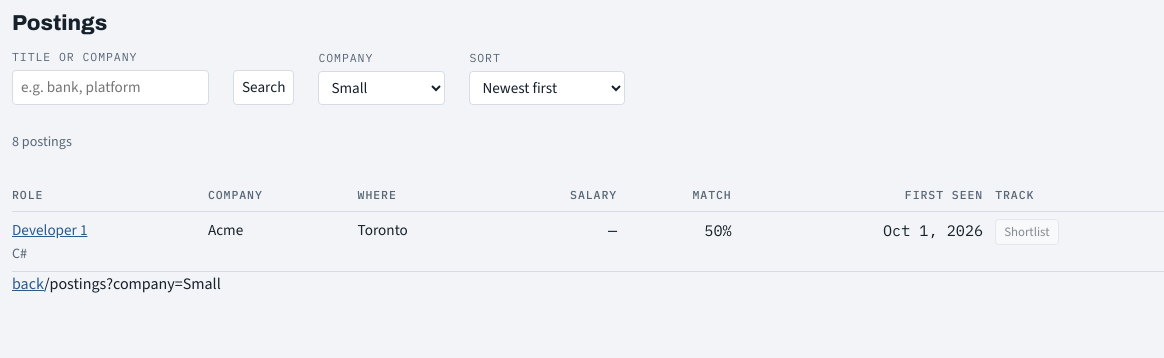
Test: Postings page › keeps the page from the address while the previous results are still on screen
Expected: the text "8 postings" is shown, [12,132,72,151]
Click the link "back" at (28, 284), box [12,273,44,294]
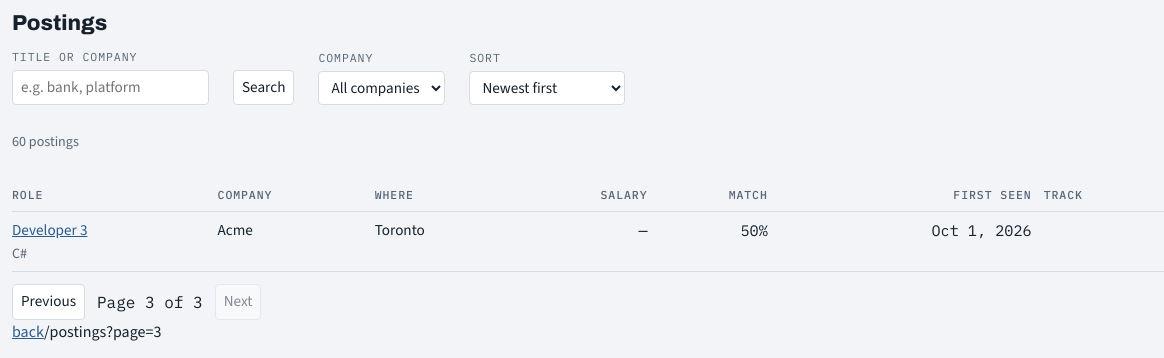
Now the text "Page 3 of 3" is shown, box [97,290,203,314]
Now the text with test id "location" reads "/postings?page=3", box [44,321,161,342]
